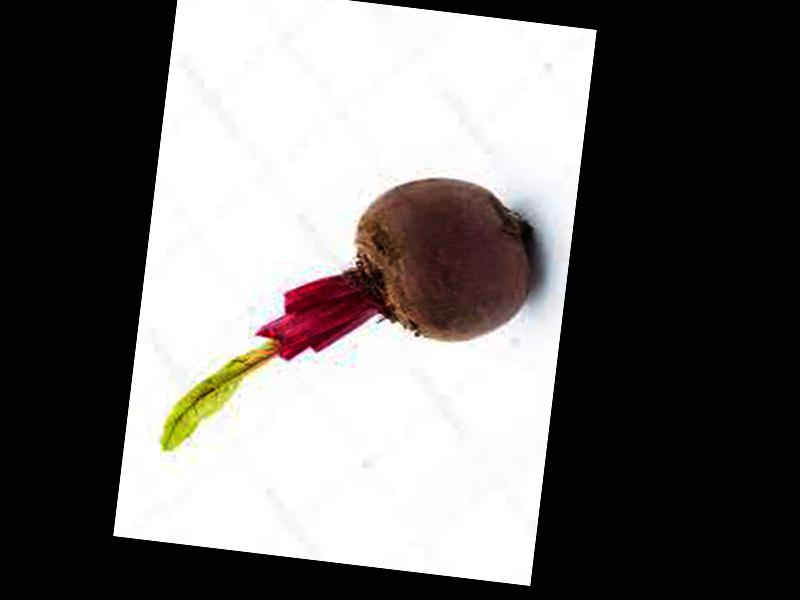Beet: (161, 147, 541, 488)
